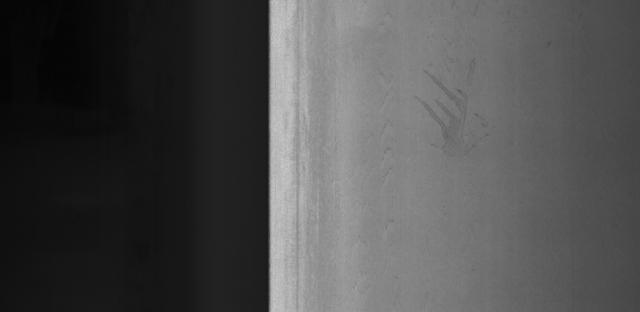water_spot: (406, 55, 502, 168)
